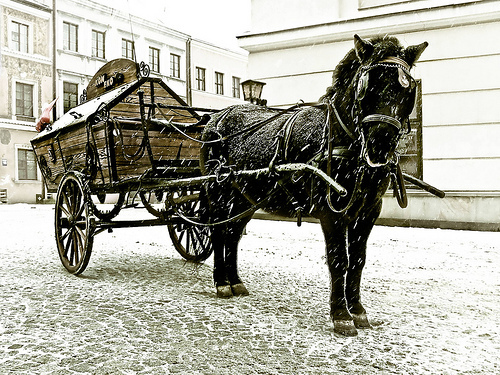horse: (178, 33, 427, 335)
